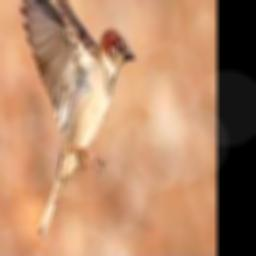Sparrow: (17, 0, 136, 236)
